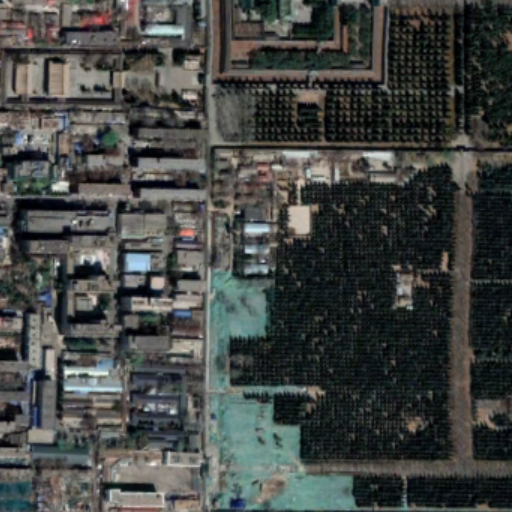cw: (207, 266, 354, 512)
